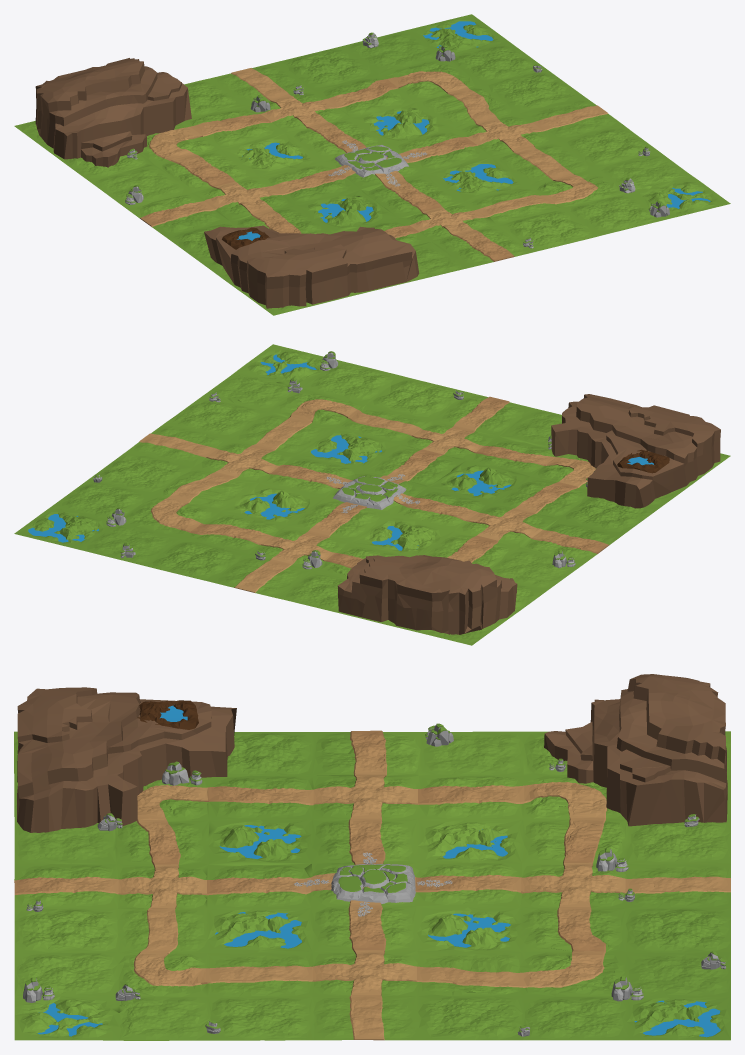
3 views of the same model, one above another, from view 1: azimuth 30°, elevation 25°; view 2: azimuth 150°, elevation 25°; view 3: azimuth 270°, elevation 25° (orthographic). The views are drawn at different scales.
Visible parts, largest first — view 1: PP_PLANE, PP_Mountain_02, PP_Mountain_01, PP_Rock_Plateau_Moss_11.001, PP_Lake_01, PP_Meadow_Lake_Water_04.002, PP_Meadow_Lake_Water_04; view 2: PP_PLANE, PP_Mountain_02, PP_Mountain_01, PP_Rock_Plateau_Moss_11.001, PP_Lake_01, PP_Meadow_Lake_Water_04, PP_Meadow_Lake_Water_04.002; view 3: PP_PLANE, PP_Mountain_02, PP_Mountain_01, PP_Rock_Plateau_Moss_11.001, PP_Lake_01, PP_Meadow_Lake_Water_04.002, PP_Meadow_Lake_Water_04, PP_Meadow_Lake_Water_01.001, PP_Meadow_Lake_Water_01.002.
Boxes of the visible parts, x1=… form: PP_PLANE: x1=14, y1=14, x2=730, y2=315; PP_Mountain_02: x1=204, y1=225, x2=419, y2=308; PP_Mountain_01: x1=35, y1=58, x2=191, y2=167; PP_Rock_Plateau_Moss_11.001: x1=335, y1=145, x2=408, y2=177; PP_Lake_01: x1=222, y1=227, x2=269, y2=249; PP_Meadow_Lake_Water_04.002: x1=443, y1=164, x2=513, y2=191; PP_Meadow_Lake_Water_04: x1=423, y1=21, x2=493, y2=47; PP_PLANE: x1=14, y1=344, x2=730, y2=645; PP_Mountain_02: x1=551, y1=394, x2=720, y2=508; PP_Mountain_01: x1=337, y1=555, x2=517, y2=634; PP_Rock_Plateau_Moss_11.001: x1=333, y1=476, x2=406, y2=509; PP_Lake_01: x1=617, y1=449, x2=669, y2=473; PP_Meadow_Lake_Water_04: x1=28, y1=514, x2=98, y2=542; PP_Meadow_Lake_Water_04.002: x1=311, y1=435, x2=381, y2=463; PP_PLANE: x1=14, y1=730, x2=730, y2=1040; PP_Mountain_02: x1=17, y1=687, x2=236, y2=832; PP_Mountain_01: x1=544, y1=674, x2=727, y2=826; PP_Rock_Plateau_Moss_11.001: x1=331, y1=864, x2=415, y2=903; PP_Lake_01: x1=137, y1=700, x2=198, y2=729; PP_Meadow_Lake_Water_04.002: x1=215, y1=912, x2=301, y2=948; PP_Meadow_Lake_Water_04: x1=634, y1=1000, x2=720, y2=1037; PP_Meadow_Lake_Water_01.001: x1=428, y1=913, x2=510, y2=947; PP_Meadow_Lake_Water_01.002: x1=219, y1=825, x2=301, y2=859.
Size of the model in its own units: 163 by 18.98 by 160.
4 materials, 4 textured.
